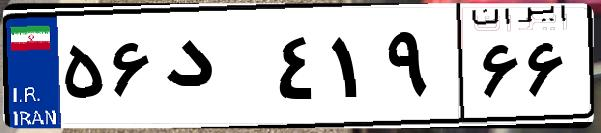1: (330, 28, 385, 110)
4: (270, 28, 330, 110)
5: (57, 26, 110, 100)
6: (475, 38, 525, 113), (525, 38, 570, 115), (110, 28, 158, 98)
9: (385, 28, 445, 110)
د: (158, 20, 270, 120)
